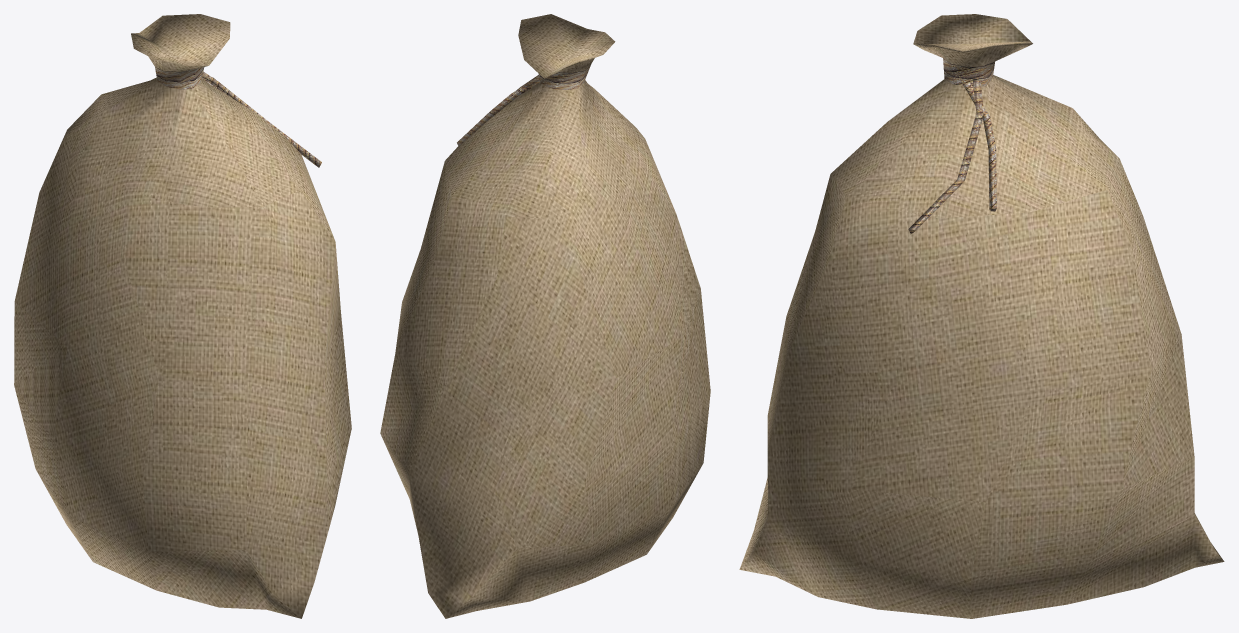
The model's file is sack.FBX.
3 renders of one model, left to right at view 1: azimuth 30°, elevation 25°; view 2: azimuth 150°, elevation 25°; view 3: azimuth 270°, elevation 25°, orthographic. The views are drawn at different scales.
Parts seen in each view (by area): view 1: Sack; view 2: Sack; view 3: Sack.
Boxes of the visible parts, box(x1,y1,x2,y2) form: Sack: box(14, 14, 351, 618); Sack: box(380, 14, 710, 618); Sack: box(739, 14, 1224, 618).
Size of the model in its own units: 4.49 by 8.56 by 6.94.
2 materials, 2 textured.
